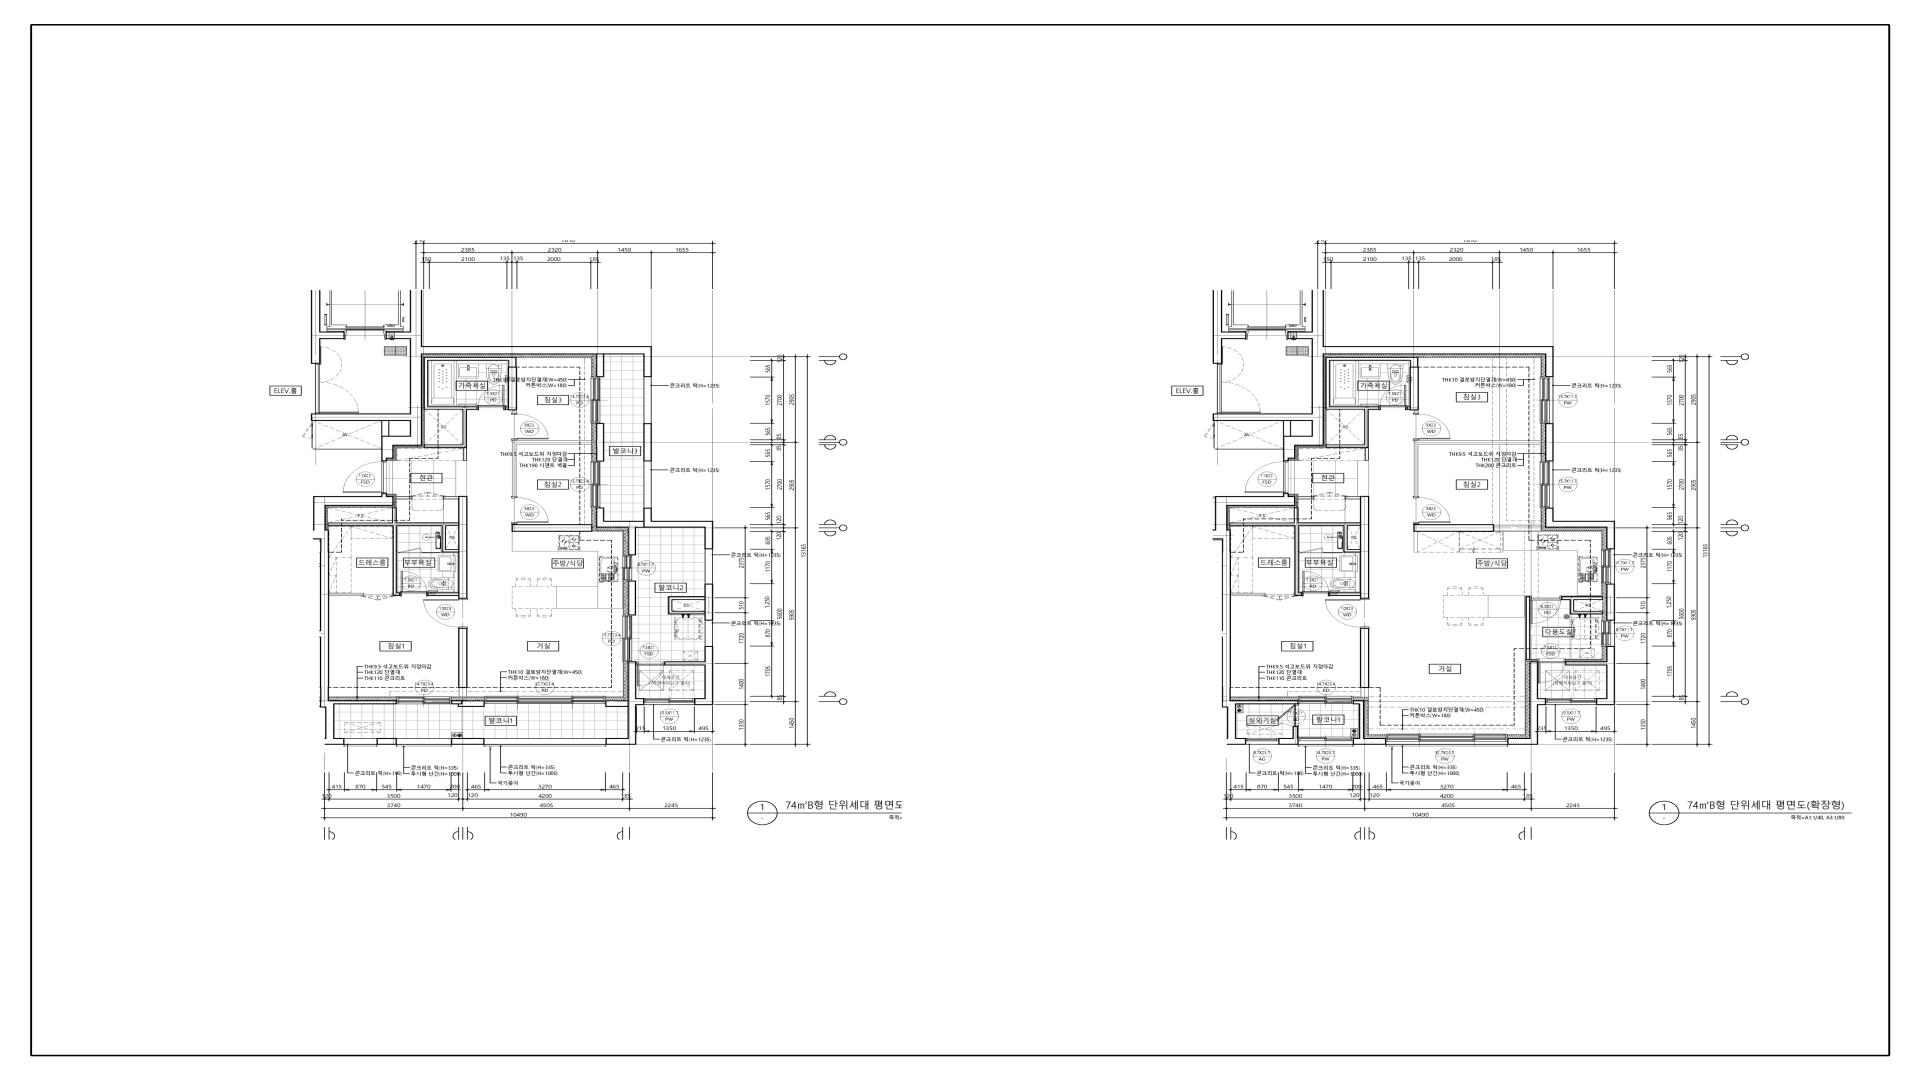door: (1217, 364, 1261, 414), (315, 364, 359, 414), (1244, 462, 1288, 493), (343, 462, 386, 493), (1325, 599, 1369, 629), (423, 599, 468, 628), (512, 413, 549, 440), (1414, 497, 1451, 525), (512, 497, 549, 525), (1414, 414, 1451, 440), (1530, 596, 1563, 624), (400, 571, 429, 596), (637, 662, 665, 687), (1379, 385, 1407, 410), (1302, 571, 1329, 596), (1538, 659, 1565, 684), (477, 385, 505, 410), (1276, 704, 1299, 727), (1265, 593, 1295, 601), (363, 593, 393, 600), (1300, 547, 1324, 554), (398, 547, 422, 553)
wall: (1213, 290, 1553, 462), (311, 290, 651, 462), (313, 493, 397, 745), (1215, 493, 1299, 745), (1229, 496, 1369, 599), (327, 508, 459, 596), (423, 357, 517, 460), (1325, 357, 1419, 460), (1414, 440, 1542, 497), (512, 440, 592, 497), (429, 496, 468, 599), (605, 662, 645, 745), (1509, 662, 1545, 745), (1565, 646, 1615, 705), (644, 508, 713, 550), (665, 646, 713, 705), (1545, 508, 1615, 549), (311, 290, 345, 364), (1213, 290, 1246, 364), (596, 508, 644, 555), (1353, 700, 1386, 745), (1414, 525, 1542, 531), (1561, 596, 1604, 615), (669, 596, 704, 615), (1360, 629, 1369, 698), (459, 628, 467, 696), (512, 525, 592, 531), (1278, 727, 1298, 745), (704, 584, 713, 621), (1606, 584, 1615, 620), (596, 423, 604, 462), (644, 423, 651, 462), (1545, 423, 1553, 462), (628, 582, 636, 616), (1526, 596, 1530, 659), (451, 738, 485, 745), (451, 700, 484, 707), (596, 355, 604, 377), (605, 700, 628, 707), (377, 738, 397, 745), (381, 421, 389, 436), (328, 593, 363, 596), (1230, 593, 1265, 596), (397, 496, 413, 500), (1298, 496, 1313, 500), (422, 553, 442, 554)
window: (1386, 735, 1509, 746), (484, 696, 605, 704), (484, 738, 605, 746), (1540, 462, 1553, 508), (1540, 377, 1553, 423), (1601, 549, 1615, 584), (1298, 737, 1353, 746), (1299, 696, 1353, 704), (397, 696, 451, 704), (397, 738, 451, 746), (622, 616, 632, 662), (591, 462, 600, 508), (591, 377, 600, 423), (1601, 620, 1615, 646), (644, 462, 651, 508), (644, 377, 651, 423), (1545, 699, 1597, 705), (645, 699, 695, 705), (704, 550, 713, 584), (344, 738, 377, 746), (622, 555, 632, 582), (704, 621, 713, 646), (1246, 738, 1279, 745)
